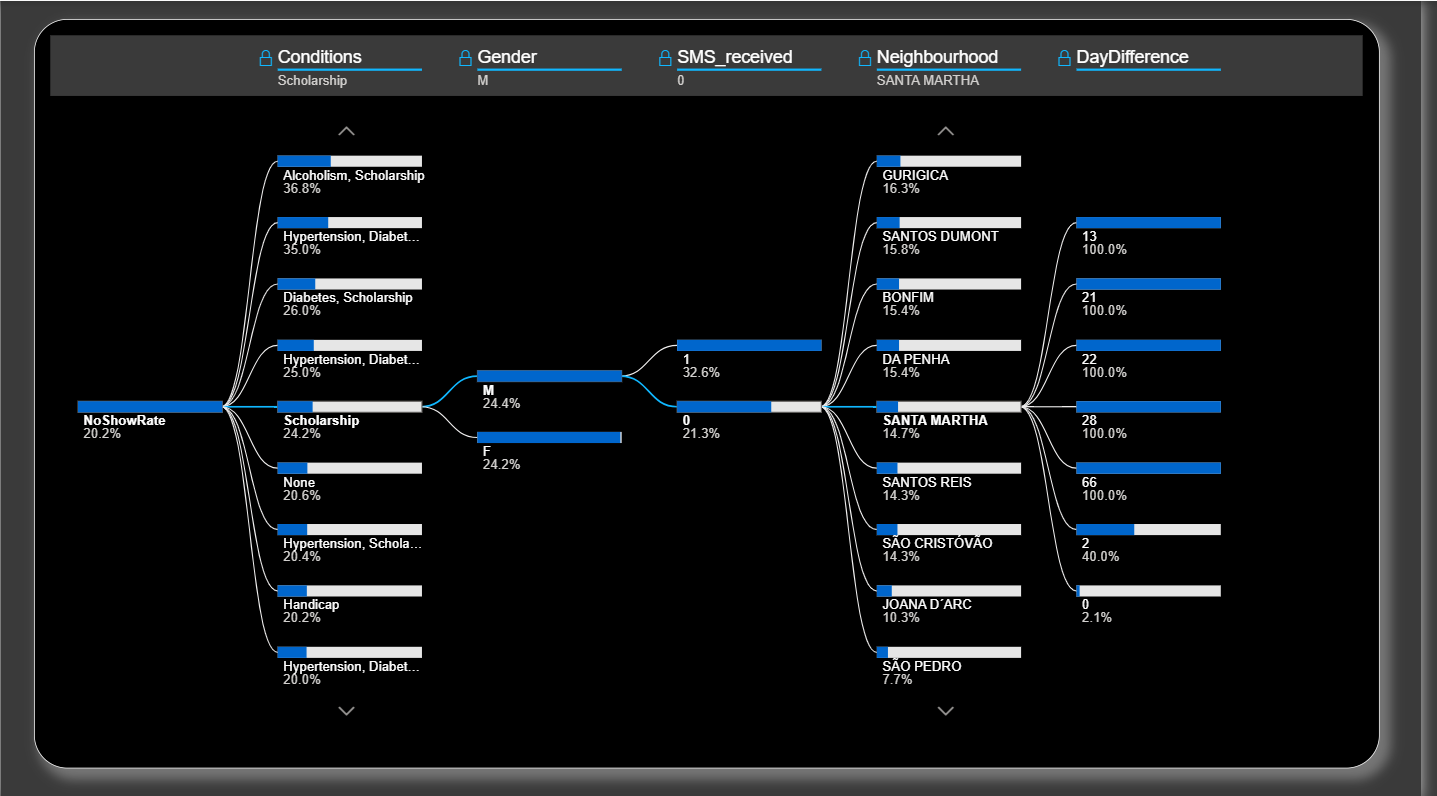

What the dashboard file says about the page in this screenshot:
{"tool":"powerbi","page":{"name":"No_Show_Rate","canvas":[1280,720],"ordinal":3},"visuals":[{"type":"decompositionTreeVisual","fields":{"ExplainBy":["KaggleV2-May-2016.Conditions","KaggleV2-May-2016.Gender","KaggleV2-May-2016.SMS_received","KaggleV2-May-2016.Neighbourhood","KaggleV2-May-2016.DayDifference"],"Analyze":["KaggleV2-May-2016.NoShowRate"]},"box":[30.3,16.7,1212.9,675.3],"z":0}]}

Visuals, with their boxes in screenshot pixels (x1, y1, x2, y2), scaled from the page's 1280x720 canvas onto the 1437x796 screenshot:
decompositionTreeVisual - KaggleV2-May-2016.Conditions x KaggleV2-May-2016.Gender: bbox(34, 18, 1396, 765)
